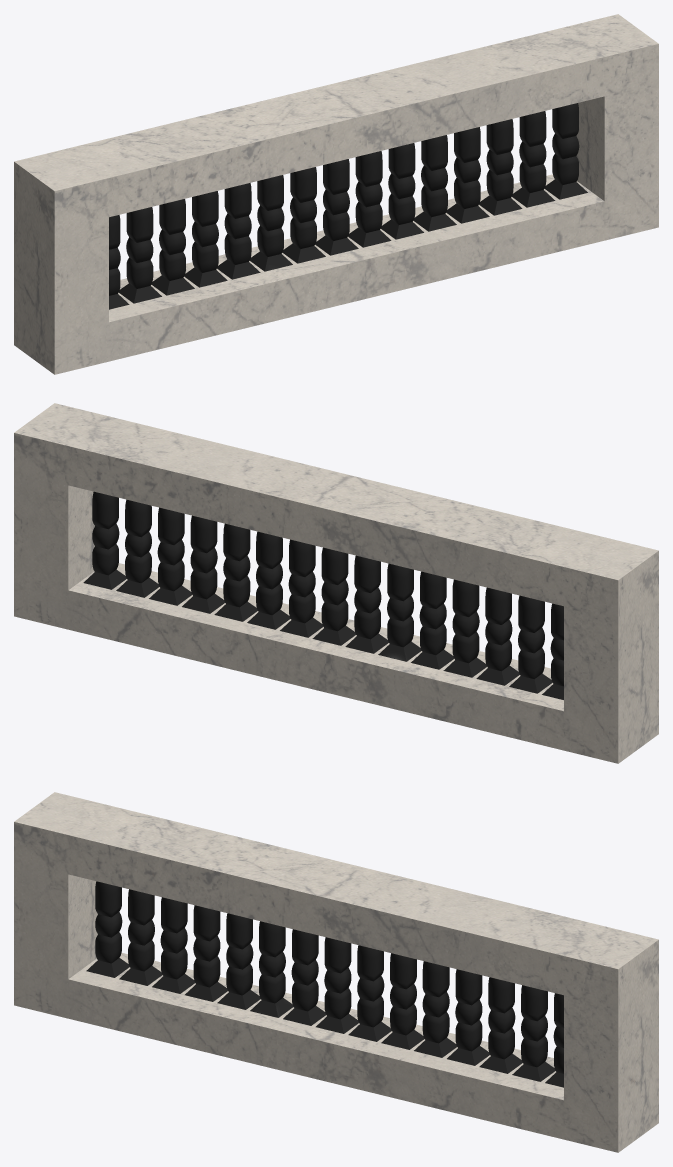
The model's file is banister_for_copy.fbx.
3 views of the same model, one above another, from view 1: azimuth 30°, elevation 25°; view 2: azimuth 150°, elevation 25°; view 3: azimuth 330°, elevation 25° (orthographic).
Parts seen in each view (by area): view 1: polySurface1, polySurface15; view 2: polySurface1, polySurface15; view 3: polySurface1, polySurface15.
Part boxes in pixels (box(x1,y1,x2,y2)): polySurface1: box(14, 14, 658, 374); polySurface15: box(109, 103, 587, 309); polySurface1: box(14, 403, 658, 763); polySurface15: box(83, 491, 563, 699); polySurface1: box(14, 792, 658, 1152); polySurface15: box(86, 881, 563, 1087).
Bounding box in the file's own units: 8.58 × 2.49 × 1.
2 materials, 2 textured.
